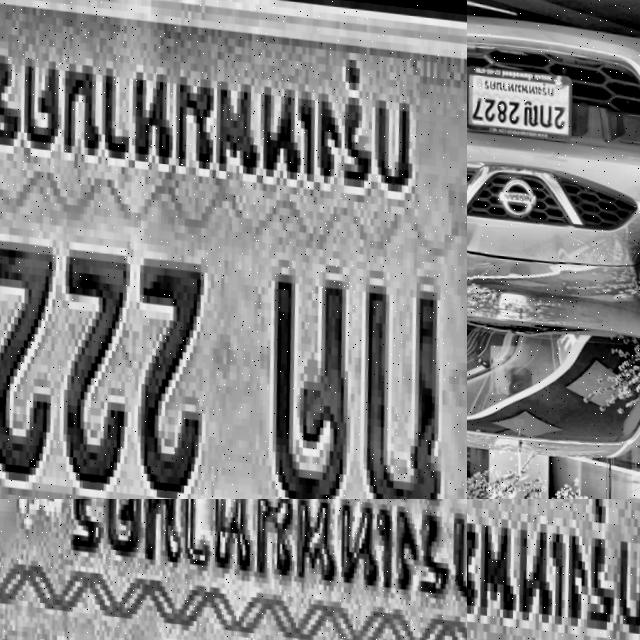license-plate: (0, 0, 467, 499), (0, 499, 467, 640), (467, 499, 640, 640), (467, 58, 572, 137)
